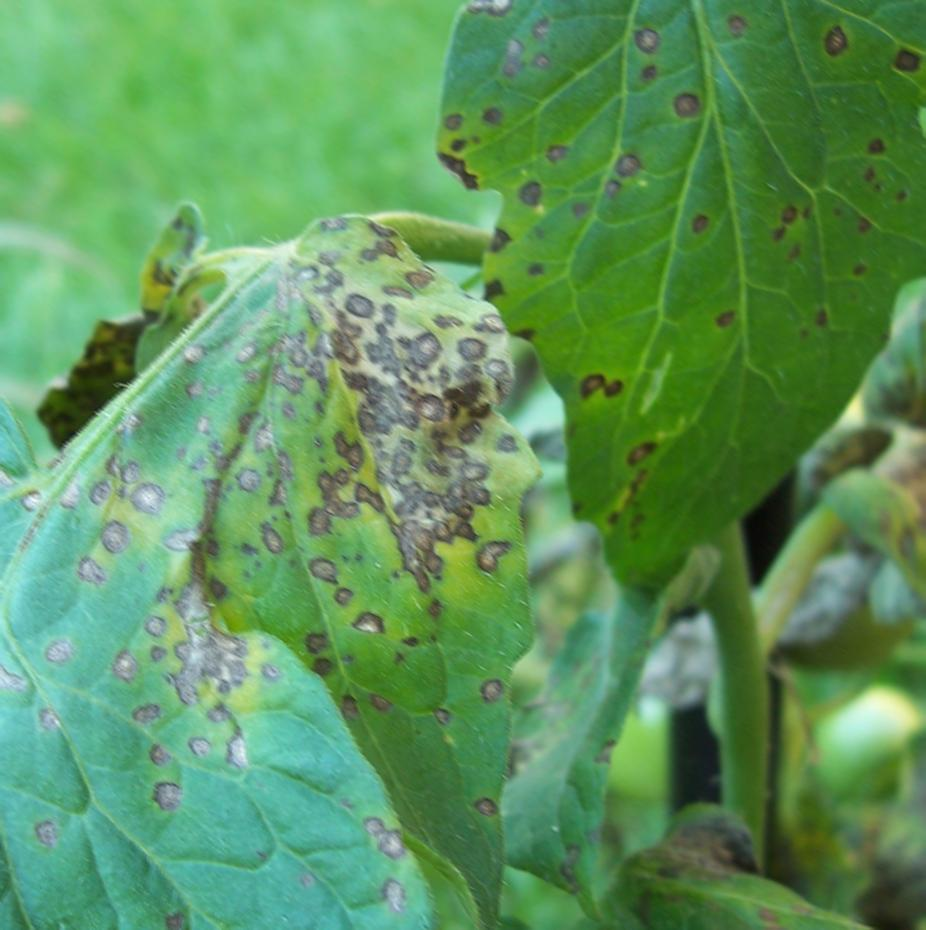Tomato Septoria leaf spot: (0, 208, 513, 930), (406, 0, 926, 618)
